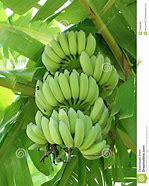banana: (31, 29, 118, 160), (21, 108, 116, 165), (27, 24, 121, 77), (28, 67, 115, 117)
